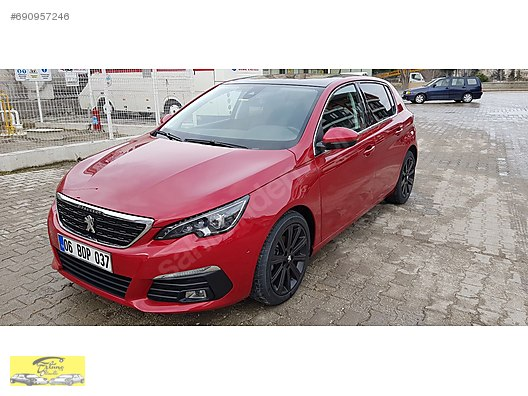peugeot: (41, 73, 422, 317)
